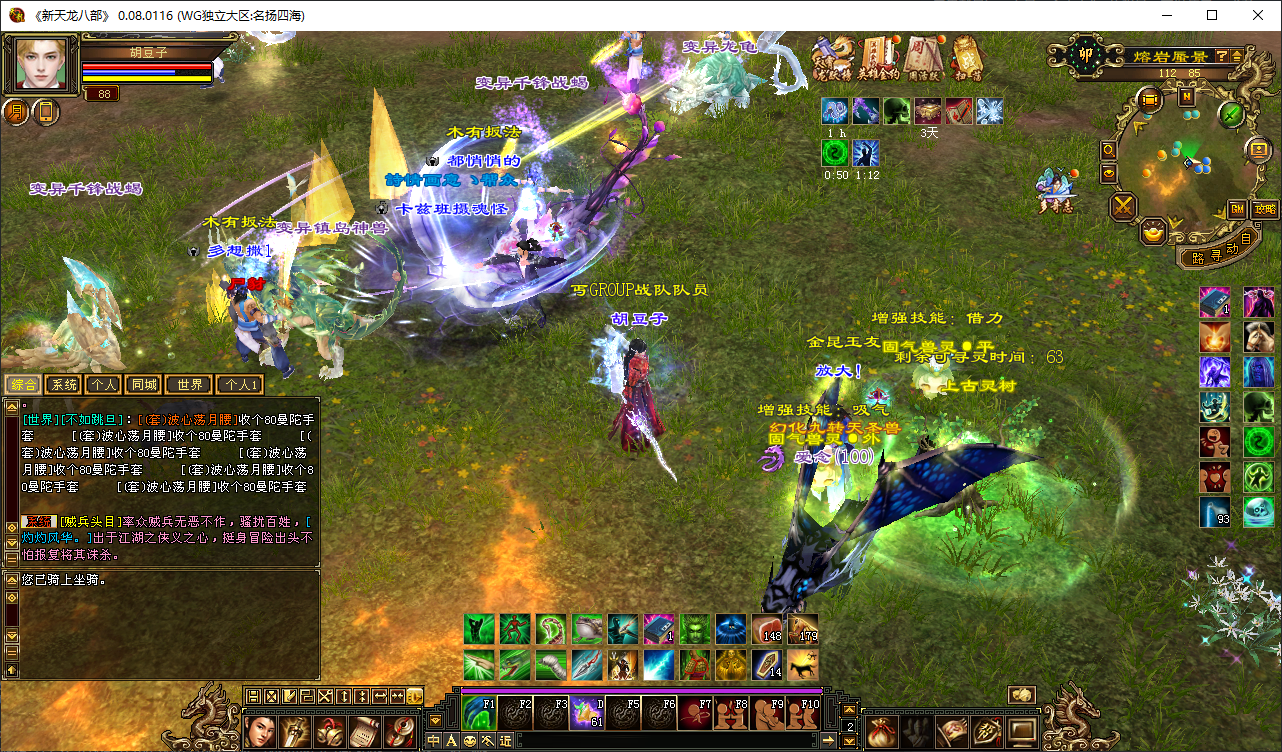cheap: (855, 291, 1013, 422)
